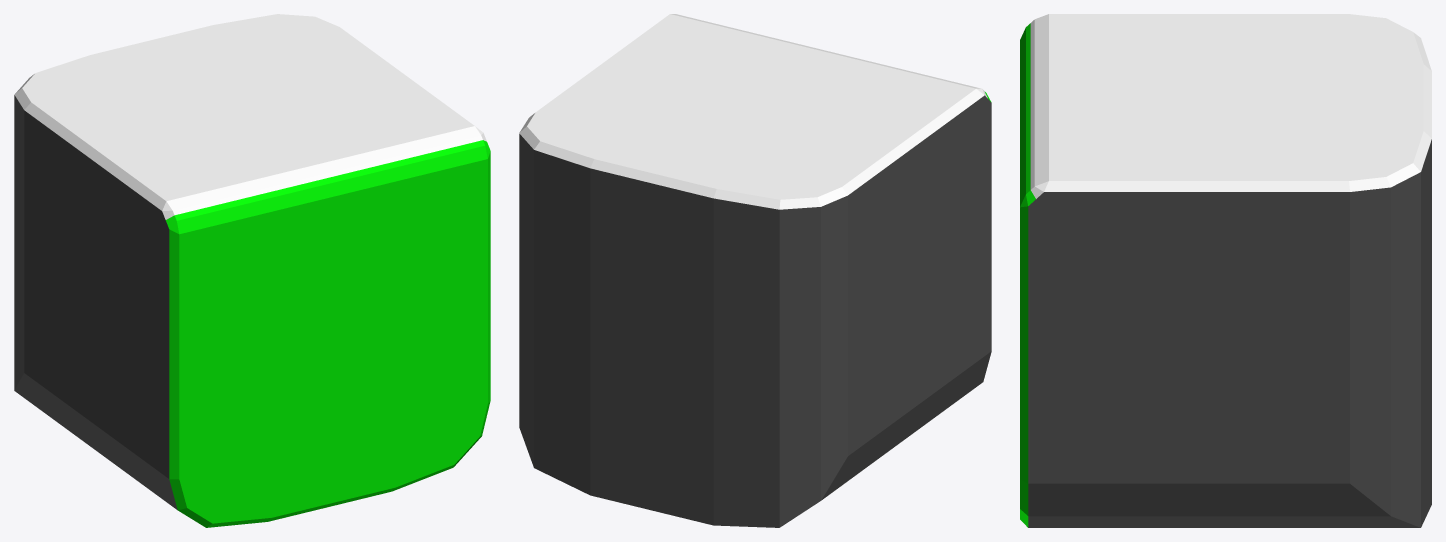
Rendered from edge.glb.
3 renders of one model, left to right at view 1: azimuth 30°, elevation 25°; view 2: azimuth 150°, elevation 25°; view 3: azimuth 270°, elevation 25°, orthographic. The views are drawn at different scales.
Visible parts, largest first — view 1: edge; view 2: edge; view 3: edge.
Part boxes in pixels (x1,y1,x2,y2): edge: (14,14,490,527); edge: (519,14,991,527); edge: (1020,14,1431,527).
Bounding box in the file's own units: 1 × 1 × 1.
